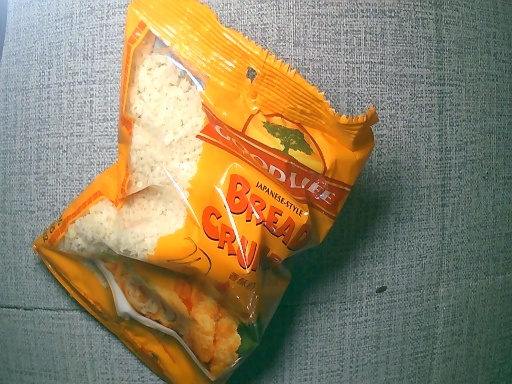plastic: (28, 3, 385, 384)
